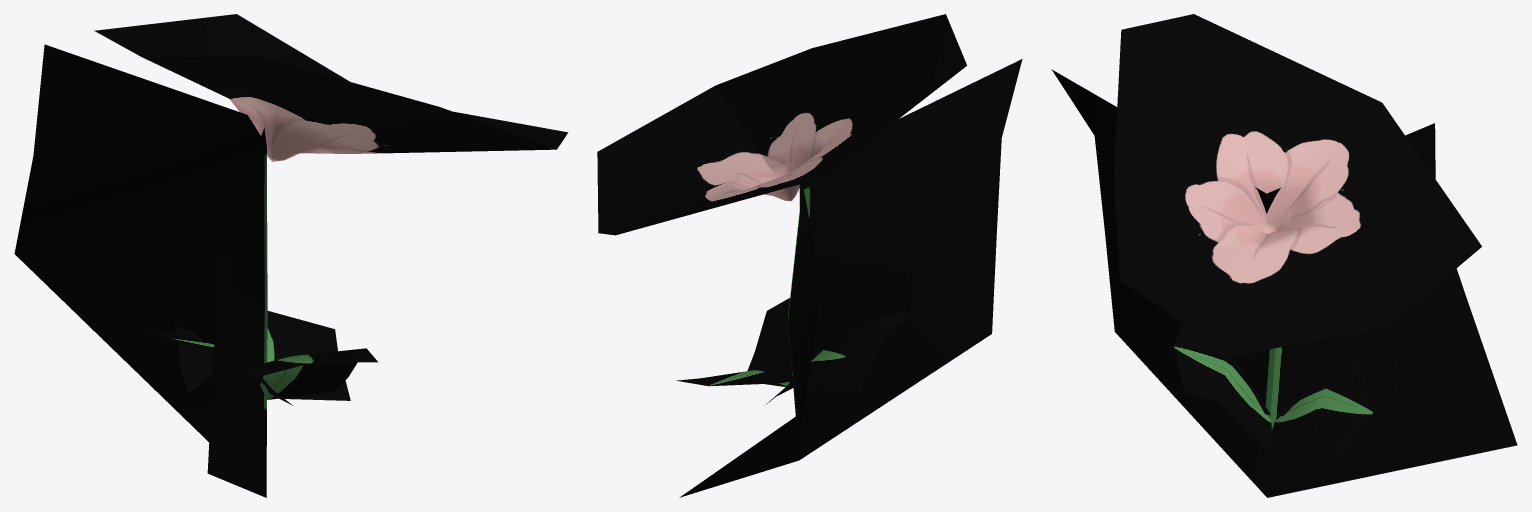
File: Pink_Flower.fbx
The picture shows the model from 3 angles, left to right: view 1: azimuth 30°, elevation 25°; view 2: azimuth 150°, elevation 25°; view 3: azimuth 270°, elevation 25°; orthographic projection. The views are drawn at different scales.
Parts seen in each view (by area): view 1: pPlane3, pPlane2, pPlane5, pPlane4, pPlane6; view 2: pPlane3, pPlane2, pPlane5, pPlane6, pPlane4; view 3: pPlane2, pPlane3, pPlane4, pPlane5.
Boxes of the visible parts, bbox=[...] form: pPlane3: bbox=[14, 44, 267, 497]; pPlane2: bbox=[94, 14, 568, 161]; pPlane5: bbox=[178, 348, 377, 405]; pPlane4: bbox=[175, 311, 350, 400]; pPlane6: bbox=[145, 332, 292, 405]; pPlane3: bbox=[679, 59, 1022, 497]; pPlane2: bbox=[597, 14, 966, 235]; pPlane5: bbox=[747, 298, 912, 394]; pPlane6: bbox=[766, 332, 863, 404]; pPlane4: bbox=[677, 370, 840, 391]; pPlane2: bbox=[1114, 14, 1481, 355]; pPlane3: bbox=[1051, 69, 1517, 497]; pPlane4: bbox=[1261, 360, 1373, 464]; pPlane5: bbox=[1174, 324, 1271, 454].
Size of the model in its own units: 222 by 250 by 246.
Materials: 3 (3 with a texture image).
